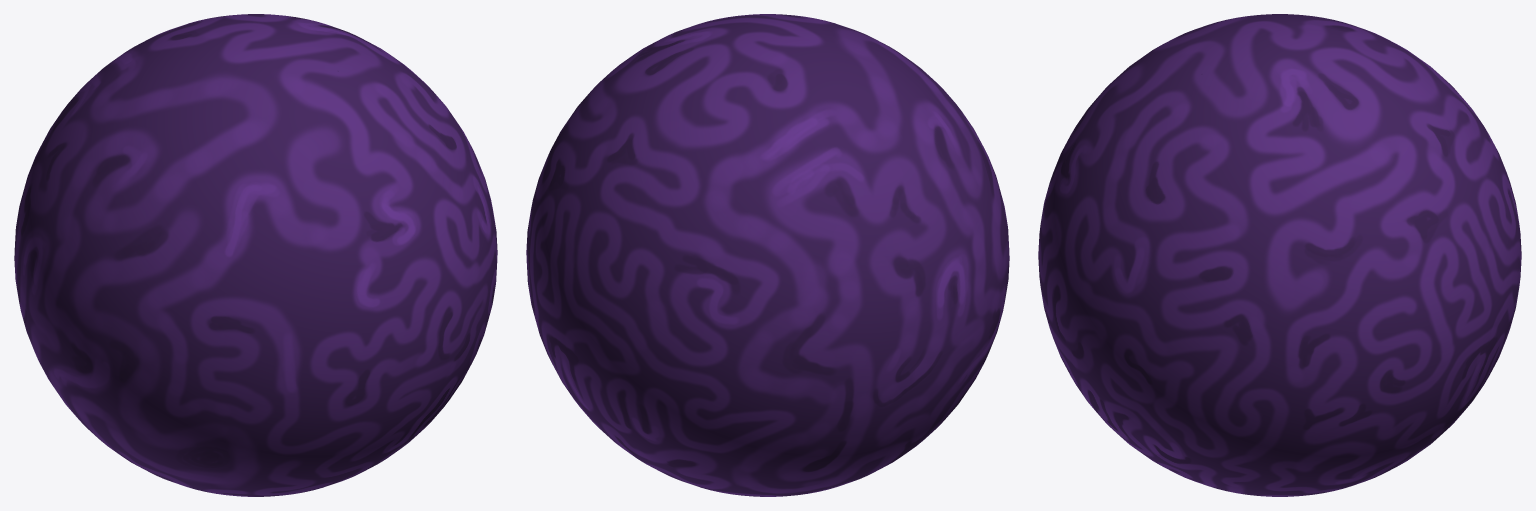
Rendered from Nucleus.obj.
3 renders of one model, left to right at view 1: azimuth 30°, elevation 25°; view 2: azimuth 150°, elevation 25°; view 3: azimuth 270°, elevation 25°, orthographic.
Visible parts, largest first — view 1: Nucleus; view 2: Nucleus; view 3: Nucleus.
Boxes of the visible parts, x1,y1,x2,y2 form: Nucleus: (14, 14, 497, 496); Nucleus: (526, 14, 1009, 496); Nucleus: (1038, 14, 1521, 496).
Size of the model in its own units: 1.03 by 1.03 by 1.03.
